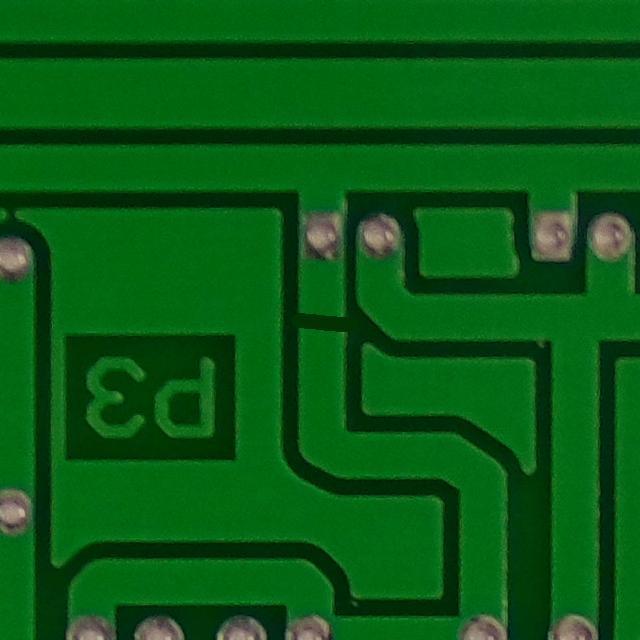open_circuit: (288, 281, 353, 360)
